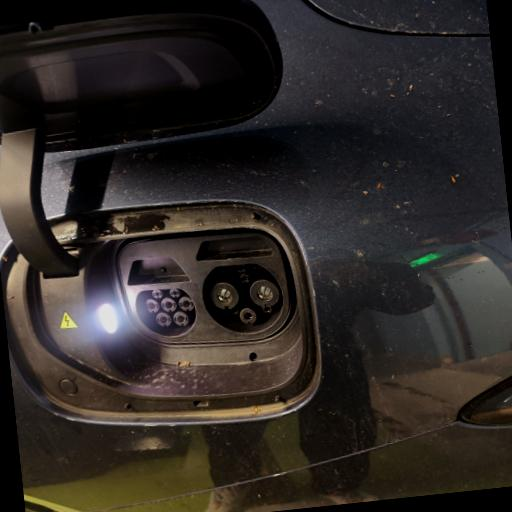AC_charging_hole: (132, 284, 201, 344)
DC_charging_port: (196, 256, 294, 342)
DC_hole: (206, 278, 242, 314), (247, 277, 283, 310)
PE: (238, 306, 258, 328)
